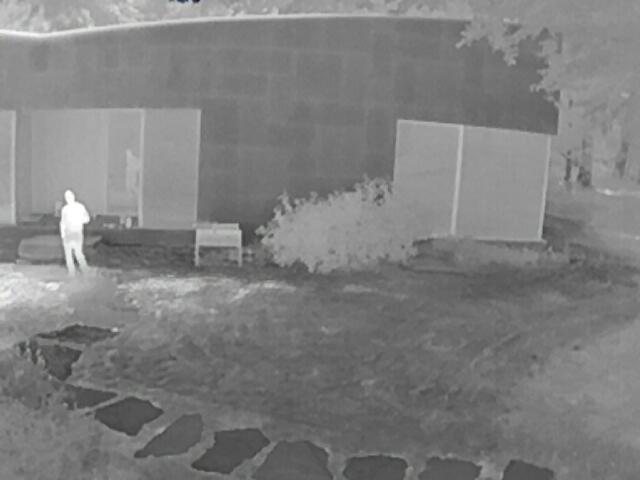person: (58, 191, 92, 279)
